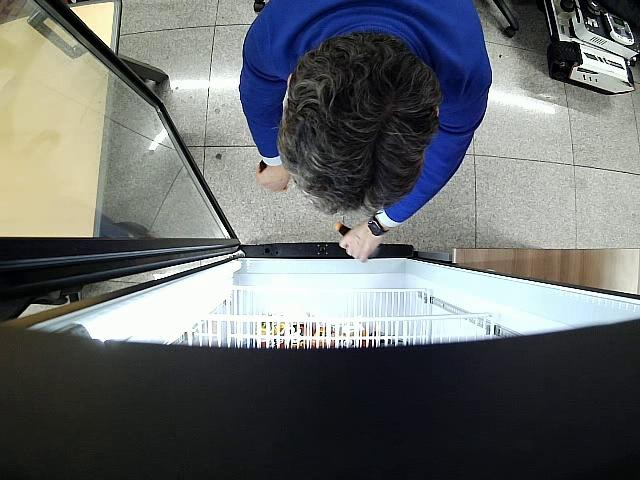00_hand: (339, 221, 382, 263), (255, 167, 291, 193)
